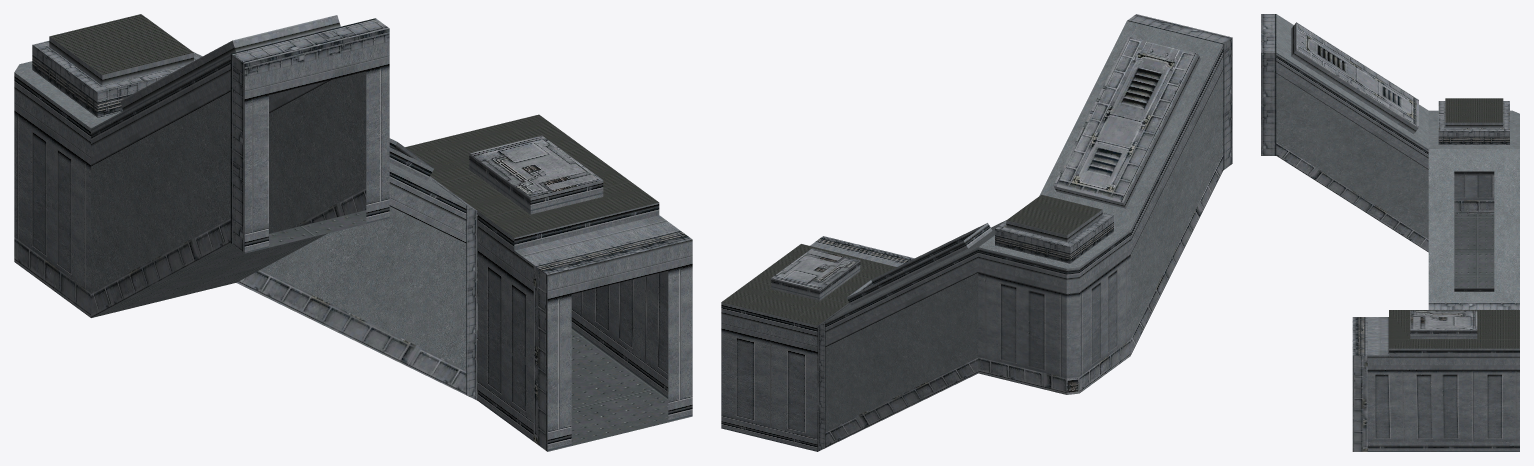
Rendered from poi_all_impl_bunker_s02_r8_ramp3_mesh_r8.fbx.
The picture shows the model from 3 angles, left to right: view 1: azimuth 30°, elevation 25°; view 2: azimuth 150°, elevation 25°; view 3: azimuth 270°, elevation 25°; orthographic projection. The views are drawn at different scales.
Visible parts, largest first — view 1: mesh_node; view 2: mesh_node; view 3: mesh_node.
Part boxes in pixels (box(x1,y1,x2,y2)): mesh_node: box(14, 14, 692, 451); mesh_node: box(721, 14, 1232, 451); mesh_node: box(1261, 14, 1519, 451).
Bounding box in the file's own units: 11 × 10.75 × 8.51.
